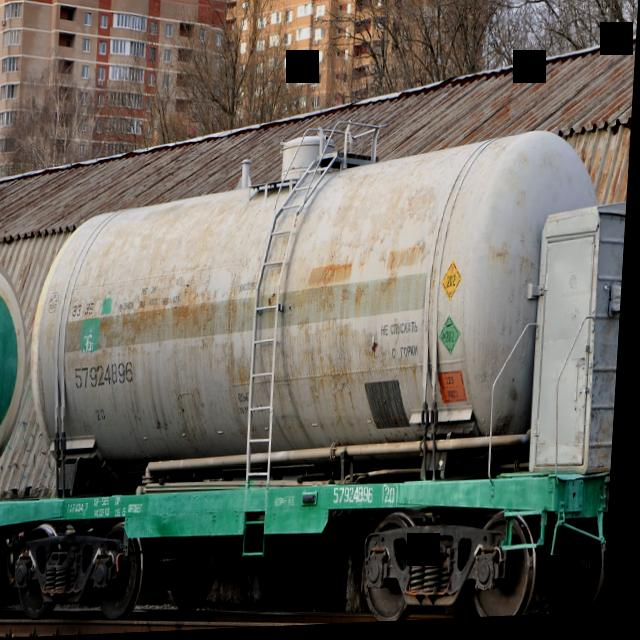tank: (18, 103, 634, 638), (0, 183, 41, 614)
